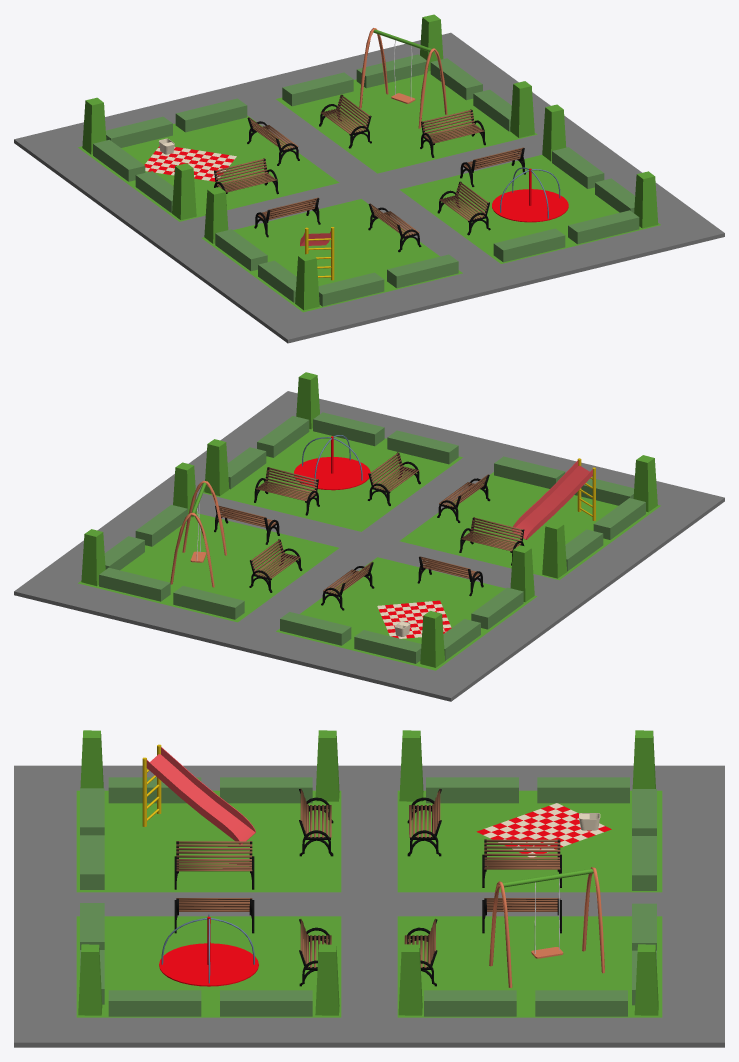
Rendered from Park001.fbx.
The picture shows the model from 3 angles, top to bottom: view 1: azimuth 30°, elevation 25°; view 2: azimuth 150°, elevation 25°; view 3: azimuth 270°, elevation 25°; orthographic projection. The views are drawn at different scales.
Visible parts, largest first — view 1: Plane.026, airport.028, Cube.052, Circle.007, Circle, Plane.053, NurbsCurve, Cylinder.004; view 2: Plane.026, airport.028, Cube.052, Circle.007, Plane.052, Circle, Plane.053, NurbsCurve; view 3: Plane.026, airport.028, Cube.052, Circle.007, Circle, Plane.052, Plane.053, NurbsCurve, Cylinder.004.
Boxes of the visible parts, x1=… form: Plane.026: x1=14, y1=32, x2=724, y2=343; airport.028: x1=93, y1=54, x2=639, y2=306; Cube.052: x1=82, y1=14, x2=658, y2=310; Circle.007: x1=214, y1=94, x2=525, y2=252; Circle: x1=492, y1=168, x2=568, y2=222; Plane.053: x1=144, y1=146, x2=236, y2=181; NurbsCurve: x1=359, y1=28, x2=447, y2=128; Cylinder.004: x1=305, y1=227, x2=334, y2=280; Plane.026: x1=14, y1=391, x2=724, y2=701; airport.028: x1=99, y1=412, x2=645, y2=663; Cube.052: x1=81, y1=372, x2=657, y2=667; Circle.007: x1=214, y1=452, x2=524, y2=610; Plane.052: x1=512, y1=460, x2=592, y2=539; Circle: x1=294, y1=436, x2=370, y2=490; Plane.053: x1=377, y1=600, x2=451, y2=638; NurbsCurve: x1=170, y1=480, x2=226, y2=587; Plane.026: x1=14, y1=765, x2=724, y2=1047; airport.028: x1=80, y1=777, x2=656, y2=1016; Cube.052: x1=78, y1=730, x2=658, y2=1015; Circle.007: x1=174, y1=789, x2=561, y2=986; Circle: x1=159, y1=916, x2=258, y2=986; Plane.052: x1=146, y1=747, x2=255, y2=844; Plane.053: x1=476, y1=803, x2=611, y2=857; NurbsCurve: x1=489, y1=867, x2=604, y2=987; Cylinder.004: x1=142, y1=744, x2=161, y2=826.
Size of the model in its own units: 1.75 by 0.2923 by 1.9.
